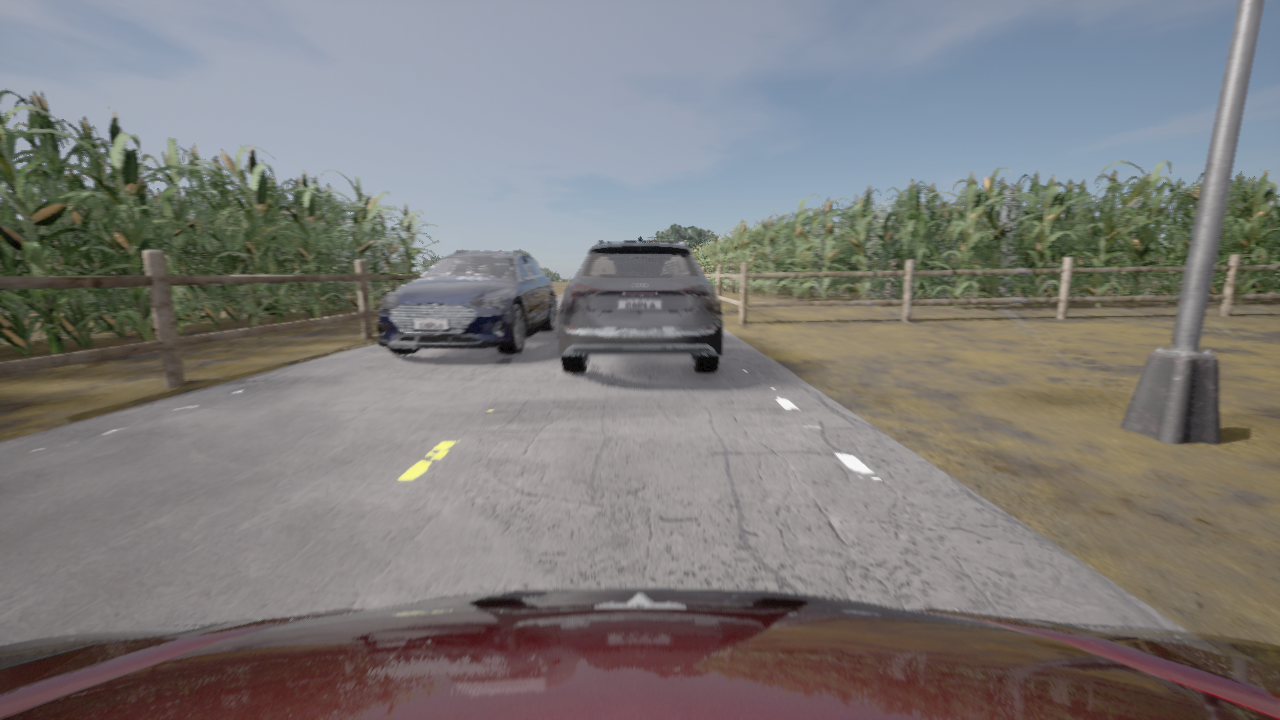cyclist: (0, 588, 1279, 719), (557, 237, 722, 373), (377, 251, 556, 354)
